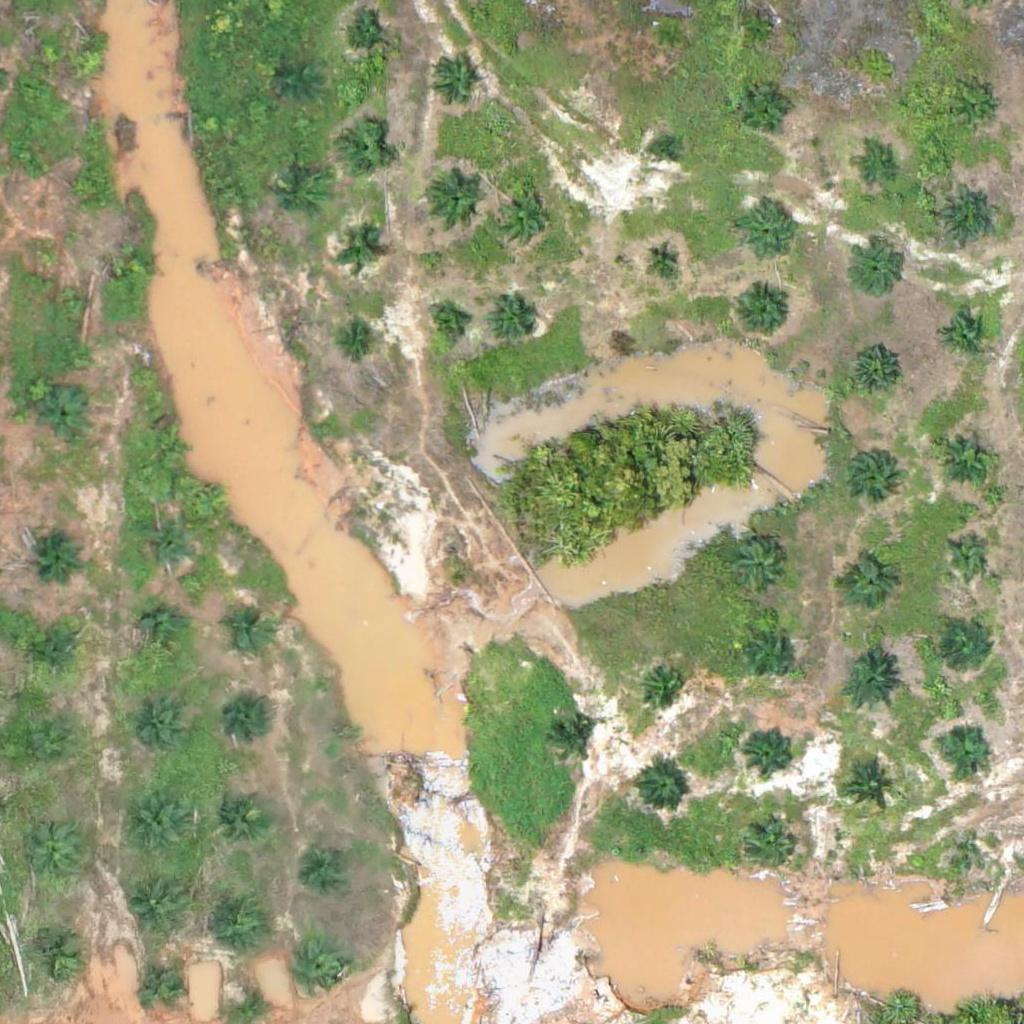Kelapa_Sawit: (11, 721, 74, 784), (126, 697, 189, 760), (124, 794, 187, 857), (211, 890, 274, 953), (125, 875, 188, 938), (840, 653, 903, 716), (937, 185, 1000, 248), (491, 186, 554, 249), (21, 827, 83, 890), (26, 925, 88, 988), (211, 785, 273, 848), (731, 282, 793, 345), (935, 424, 997, 487), (735, 200, 797, 263), (425, 168, 487, 231), (138, 960, 188, 1011), (938, 720, 988, 771), (942, 621, 992, 672), (840, 558, 890, 609), (851, 244, 901, 295), (734, 543, 784, 594), (745, 626, 795, 677), (745, 724, 795, 775), (845, 763, 895, 814), (848, 345, 898, 396), (939, 309, 989, 360), (741, 81, 791, 132), (227, 696, 277, 746), (34, 527, 84, 577), (141, 522, 191, 572), (40, 391, 90, 441), (137, 607, 187, 657), (223, 606, 273, 656), (845, 448, 895, 498), (636, 764, 686, 814), (295, 947, 345, 997), (305, 842, 355, 892), (747, 825, 797, 875), (639, 660, 689, 710), (548, 716, 598, 766), (31, 631, 81, 681), (342, 16, 392, 66), (340, 125, 390, 175), (429, 58, 479, 108), (489, 294, 539, 344), (278, 175, 328, 225), (854, 150, 892, 188), (149, 429, 187, 467), (339, 230, 377, 268), (340, 321, 378, 359), (427, 304, 465, 342), (53, 281, 91, 319), (63, 168, 101, 206), (69, 43, 107, 81), (959, 93, 996, 131), (948, 537, 985, 575), (646, 241, 683, 279), (117, 243, 154, 281), (650, 17, 688, 54), (280, 63, 317, 101), (743, 11, 780, 49), (652, 138, 677, 163), (964, 840, 989, 865)
